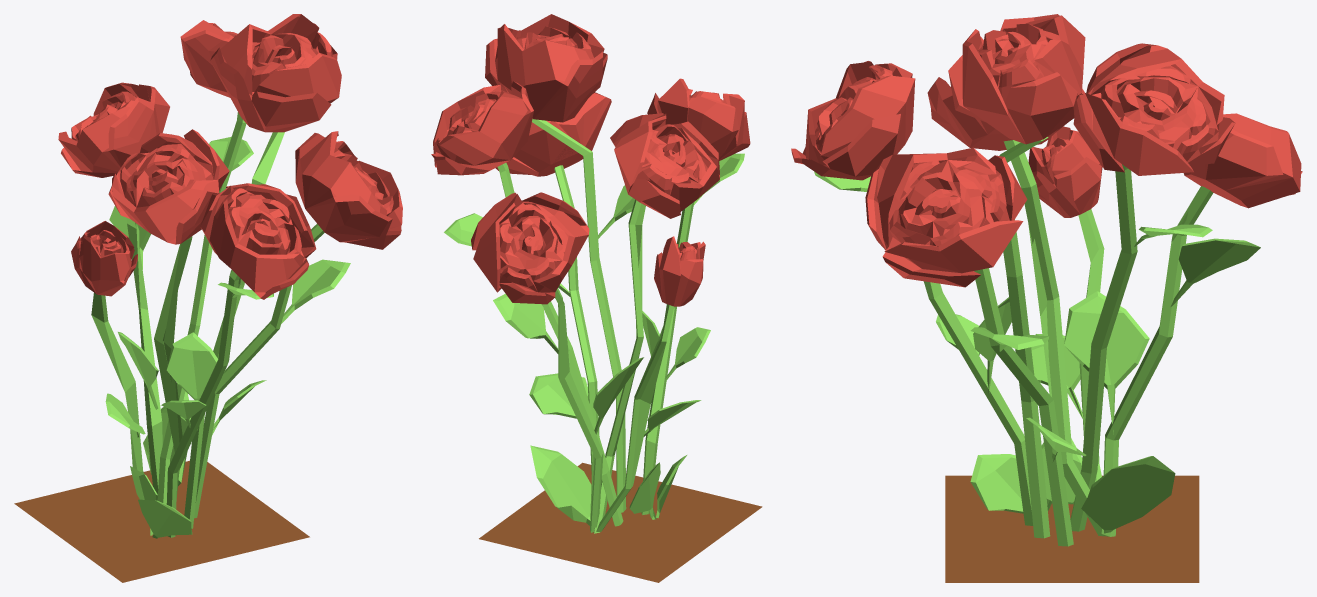
File: rose.fbx
3 renders of one model, left to right at view 1: azimuth 30°, elevation 25°; view 2: azimuth 150°, elevation 25°; view 3: azimuth 270°, elevation 25°, orthographic. The views are drawn at different scales.
Visible parts, largest first — view 1: zdirt; view 2: zdirt; view 3: zdirt.
Part boxes in pixels (x1,y1,x2,y2): zdirt: (14, 14, 402, 582); zdirt: (431, 14, 762, 582); zdirt: (791, 14, 1302, 582).
Size of the model in its own units: 369 by 644 by 503.
